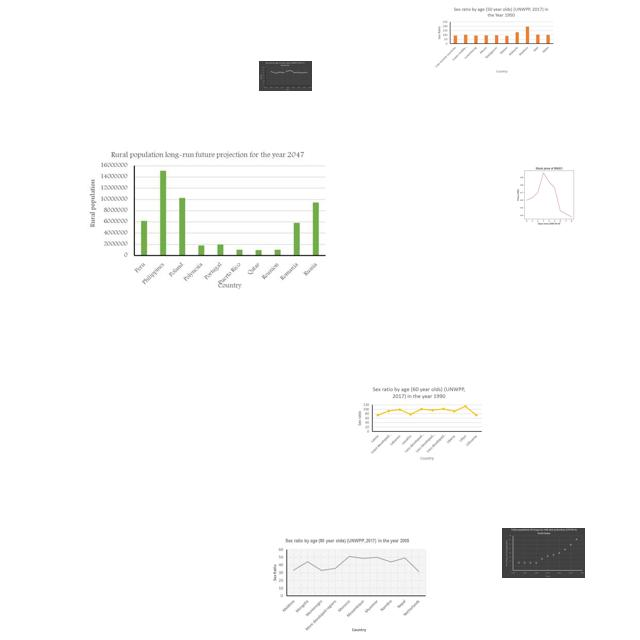Graph: (87, 148, 330, 290), (268, 536, 428, 632), (354, 384, 484, 464), (434, 4, 556, 74), (506, 163, 590, 226), (502, 528, 585, 578), (259, 61, 312, 91)
